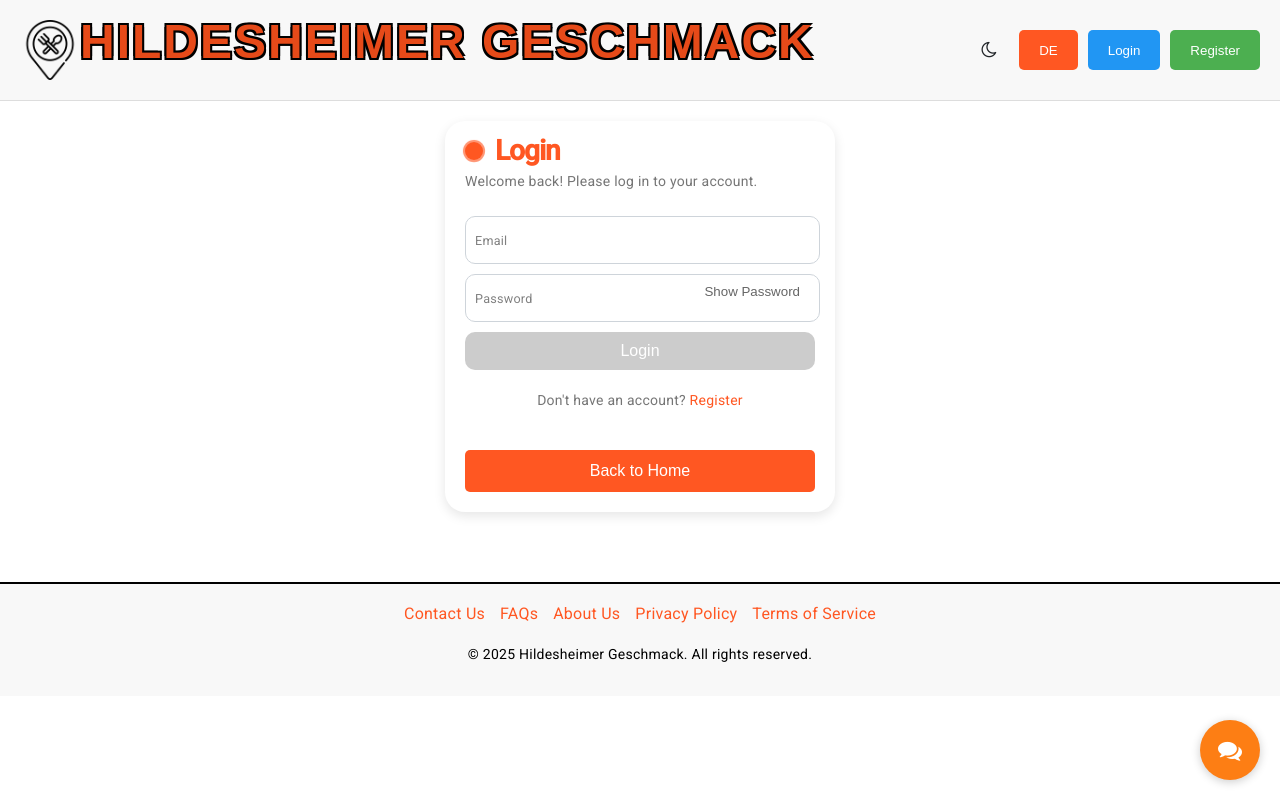
Test: Login Page › should display validation errors when fields are empty
Expected: the button with class "submit" is disabled, [465,332,815,370]
Step 1. Click the field named "email" → (643, 240), box [465,216,820,264]
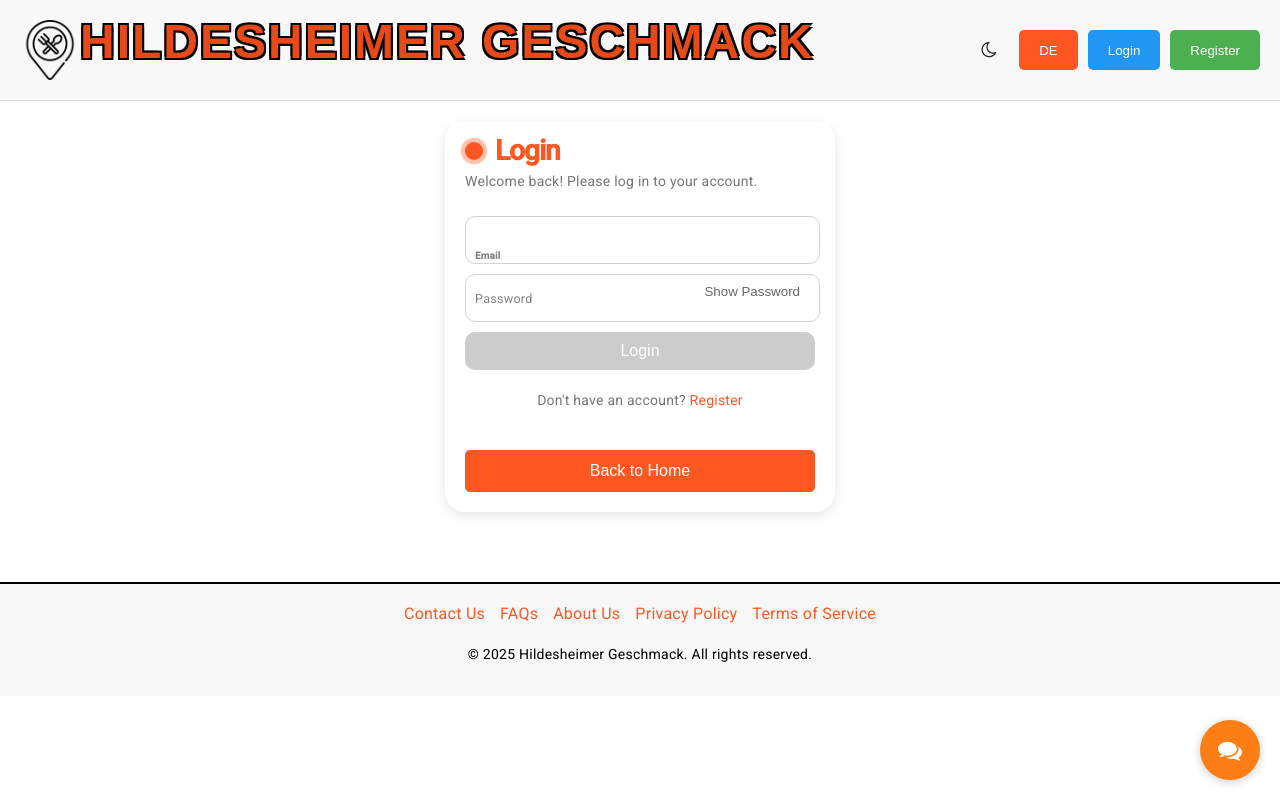
Step 2. Leave the field named "email", box [465,216,820,264]
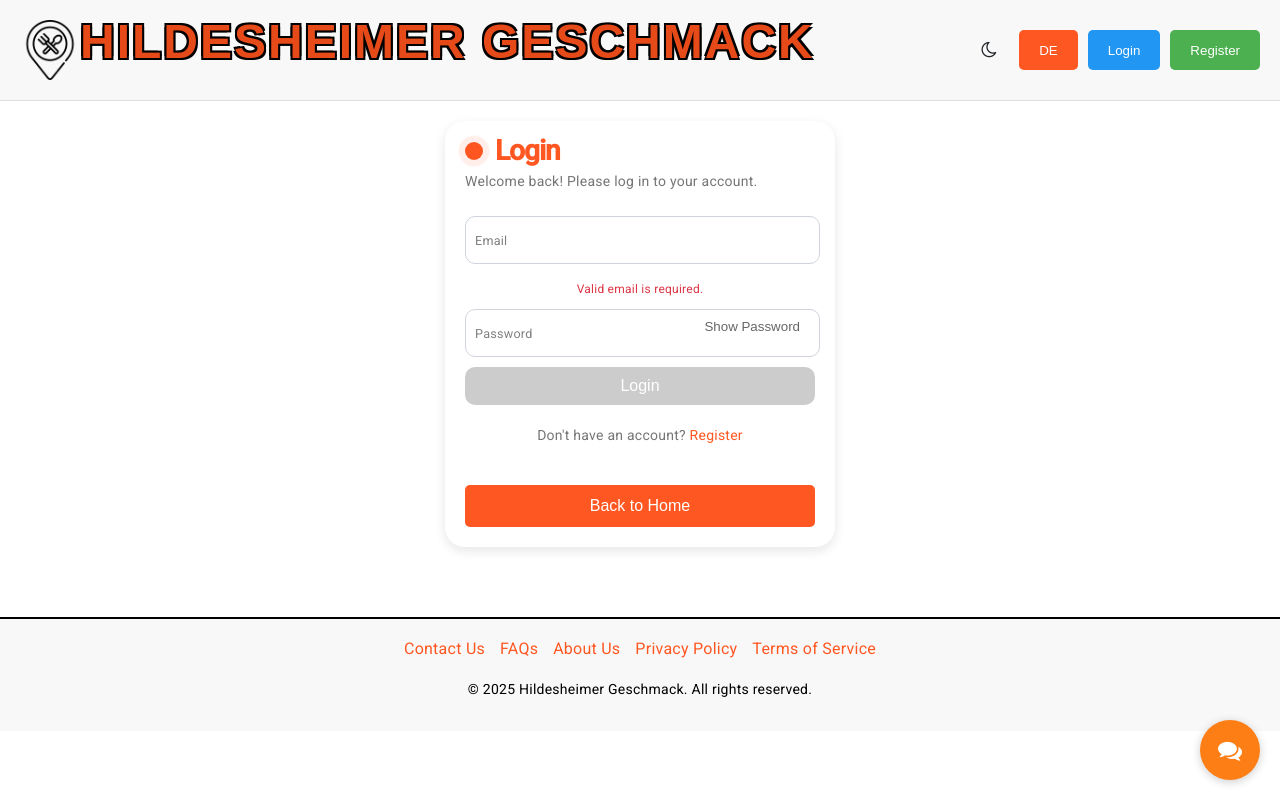
Now the text with class "error-message" reads "Valid email is required.", box [577,282,704,296]
Step 3. Click the password field named "password" → (643, 333), box [465,309,820,357]
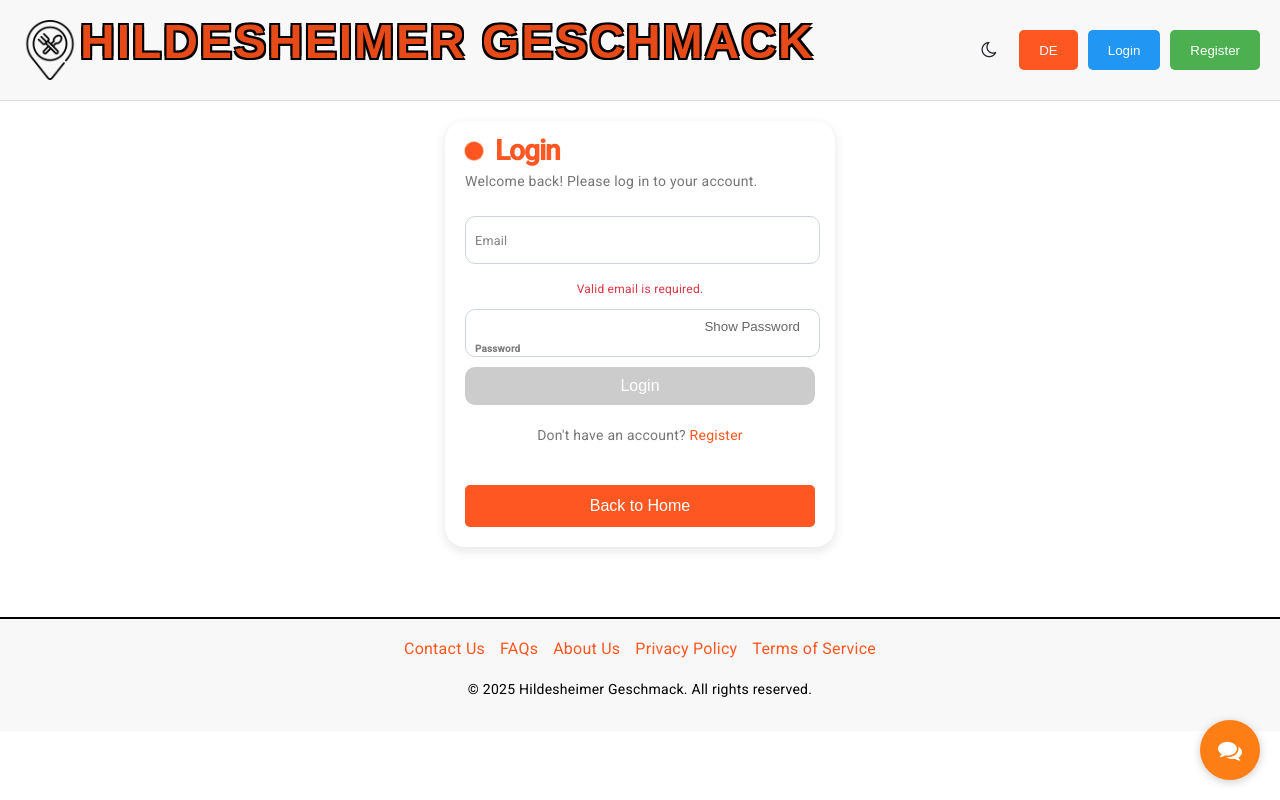
Step 4. Leave the password field named "password", box [465,309,820,357]
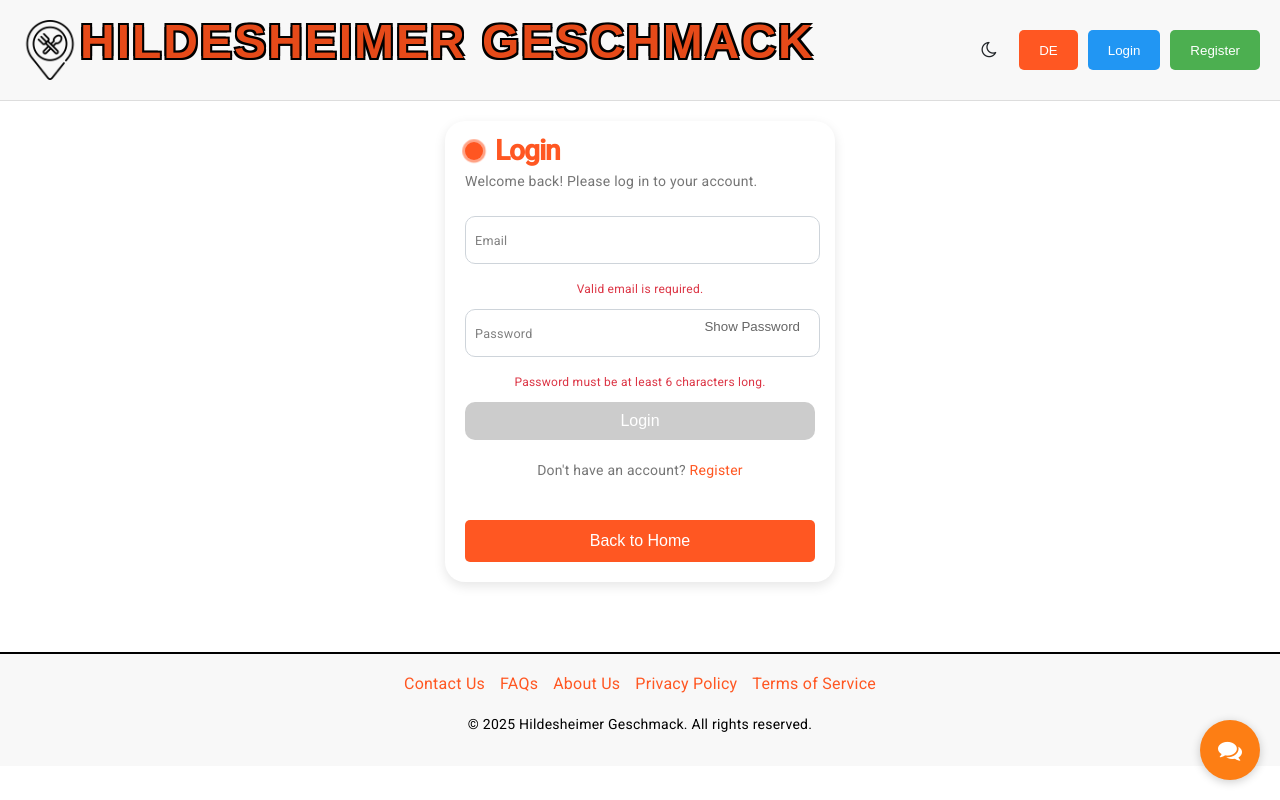
Now the text with class "error-message" reads "Password must be at least 6 characters long.", box [514,375,765,389]
